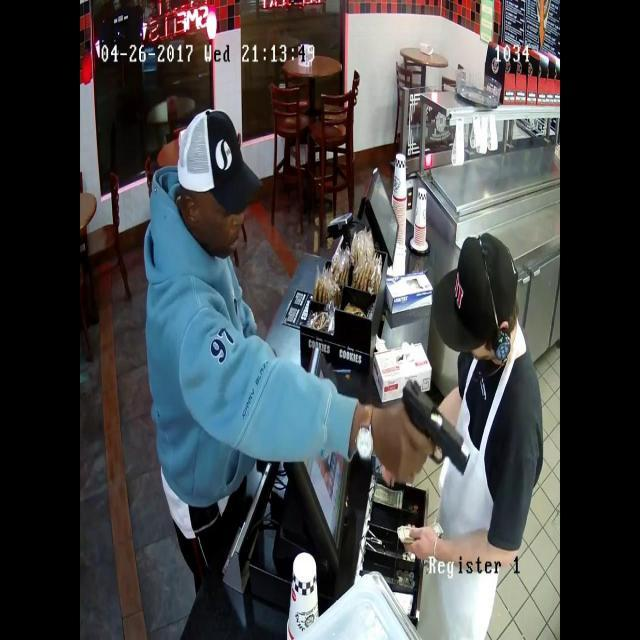weapon: (387, 370, 482, 490)
